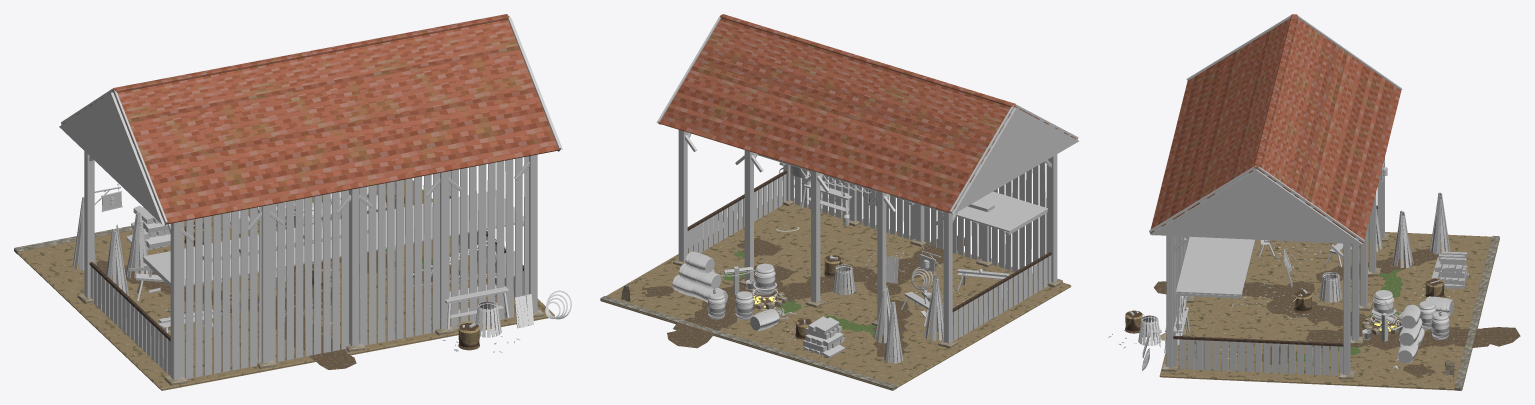
Rendered from cooper.gltf.
The picture shows the model from 3 angles, left to right: view 1: azimuth 30°, elevation 25°; view 2: azimuth 150°, elevation 25°; view 3: azimuth 270°, elevation 25°; orthographic projection. The views are drawn at different scales.
Visible parts, largest first — view 1: cooper#n1_0, cooper#0_0, cooper#n1_n1, cooper#0_n1; view 2: cooper#n1_0, cooper#0_0, cooper#0_n1, cooper#n1_n1; view 3: cooper#n1_0, cooper#0_0, cooper#0_n1, cooper#n1_n1.
Boxes of the visible parts, x1=… form: cooper#n1_0: x1=59, y1=14, x2=562, y2=385; cooper#0_0: x1=17, y1=179, x2=571, y2=390; cooper#n1_n1: x1=72, y1=184, x2=231, y2=304; cooper#0_n1: x1=14, y1=181, x2=404, y2=309; cooper#n1_0: x1=656, y1=14, x2=1079, y2=343; cooper#0_0: x1=600, y1=165, x2=1071, y2=390; cooper#0_n1: x1=600, y1=251, x2=896, y2=390; cooper#n1_n1: x1=782, y1=246, x2=957, y2=363; cooper#n1_0: x1=1149, y1=14, x2=1402, y2=375; cooper#0_0: x1=1108, y1=232, x2=1499, y2=390; cooper#0_n1: x1=1267, y1=235, x2=1520, y2=390; cooper#n1_n1: x1=1316, y1=161, x2=1468, y2=302.
Size of the model in its own units: 13.77 by 8.3 by 14.36.
